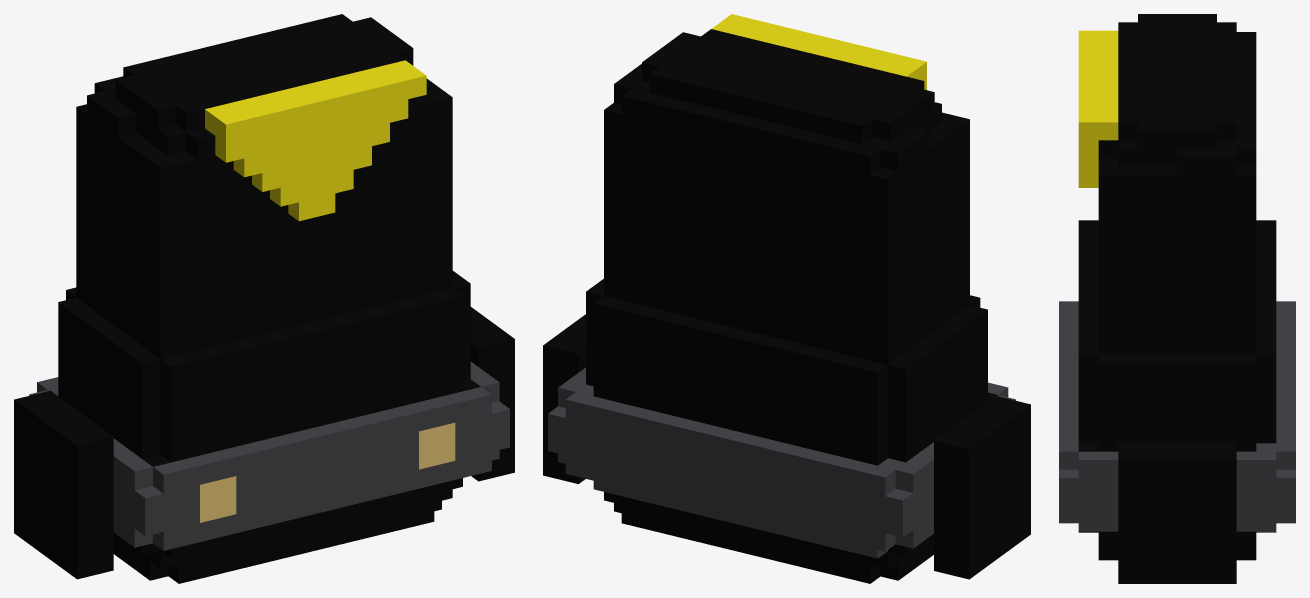
The model's file is Torso.obj.
3 renders of one model, left to right at view 1: azimuth 30°, elevation 25°; view 2: azimuth 150°, elevation 25°; view 3: azimuth 270°, elevation 25°, orthographic. The views are drawn at different scales.
Size of the model in its own units: 2.4 by 2.4 by 1.2.
Materials: 1 (1 with a texture image).
